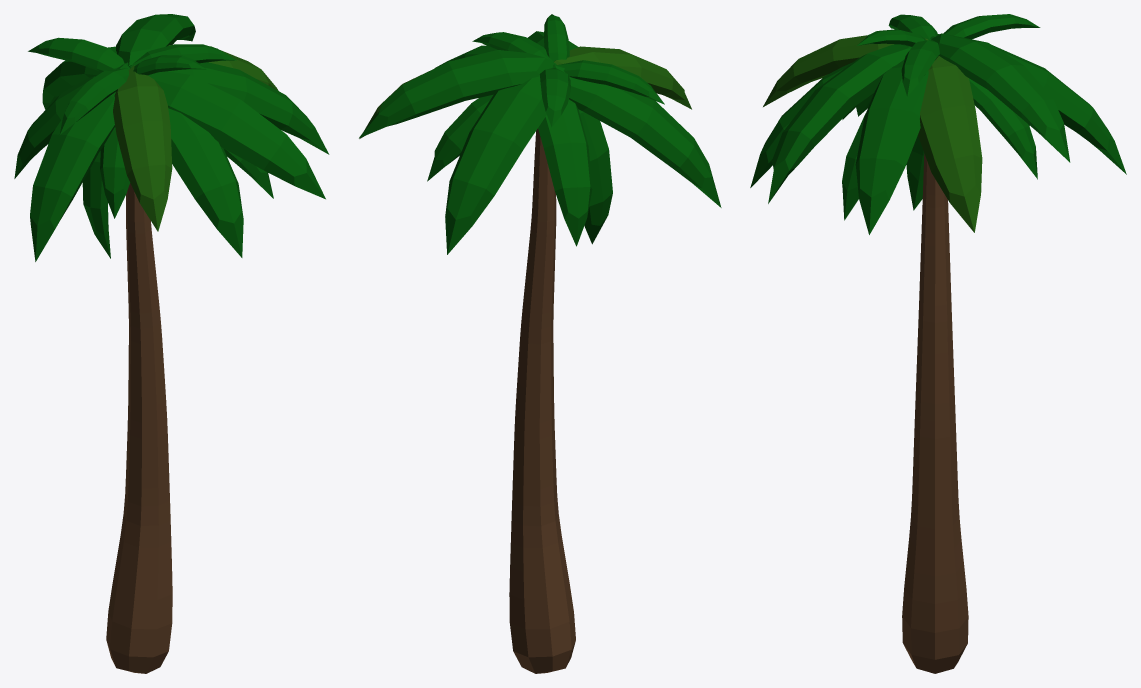
The model's file is lp_palm_3_Cube_037.obj.
The picture shows the model from 3 angles, left to right: view 1: azimuth 30°, elevation 25°; view 2: azimuth 150°, elevation 25°; view 3: azimuth 270°, elevation 25°; orthographic projection. The views are drawn at different scales.
Parts seen in each view (by area): view 1: lp_palm_3_Cube_037; view 2: lp_palm_3_Cube_037; view 3: lp_palm_3_Cube_037.
Part boxes in pixels (x1,y1,x2,y2): lp_palm_3_Cube_037: (14,14,329,673); lp_palm_3_Cube_037: (359,14,721,673); lp_palm_3_Cube_037: (750,14,1126,673).
Bounding box in the file's own units: 8.05 × 15.82 × 8.36.
